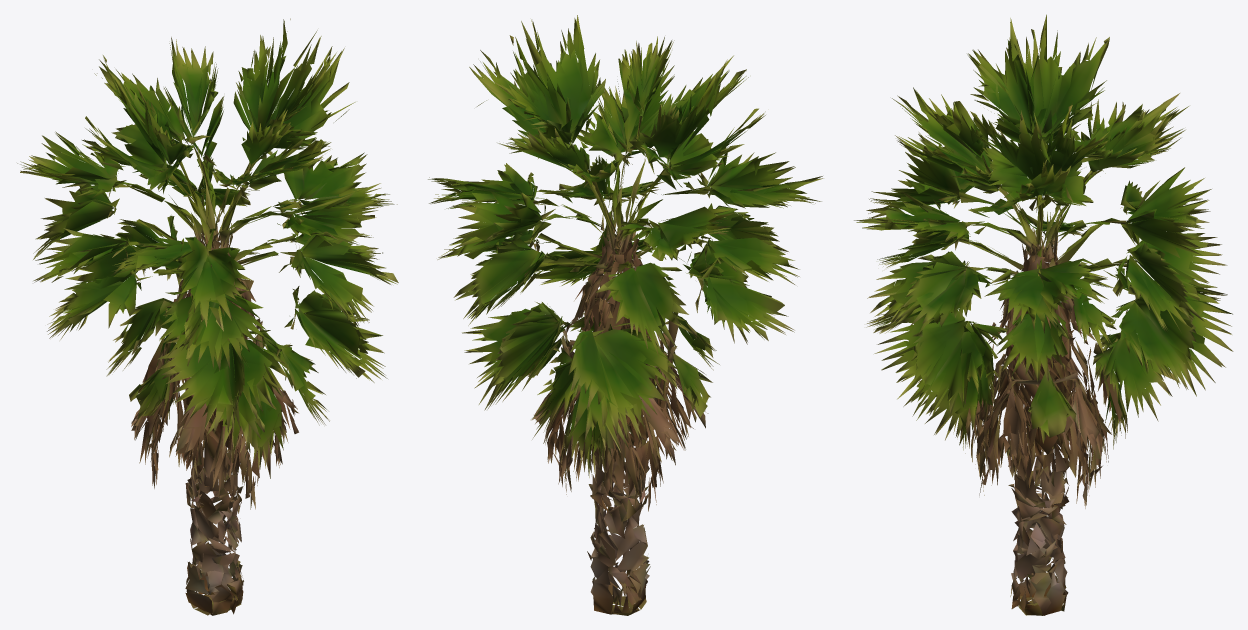
File: fanpalm.glb
3 views of the same model, side by side, from view 1: azimuth 30°, elevation 25°; view 2: azimuth 150°, elevation 25°; view 3: azimuth 270°, elevation 25° (orthographic). The views are drawn at different scales.
Visible parts, largest first — view 1: LO.001; view 2: LO.001; view 3: LO.001.
Boxes of the visible parts, left/top/right/bottom form: LO.001: left=17, top=18, right=398, bottom=615; LO.001: left=428, top=15, right=823, bottom=615; LO.001: left=854, top=14, right=1233, bottom=615.
Size of the model in its own units: 0.6629 by 0.9818 by 0.619.
Materials: 1 (1 with a texture image).
